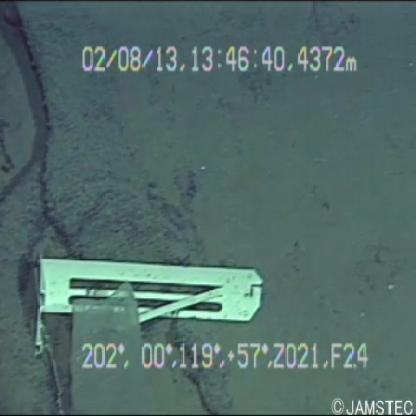Rác: (17, 228, 294, 344)
